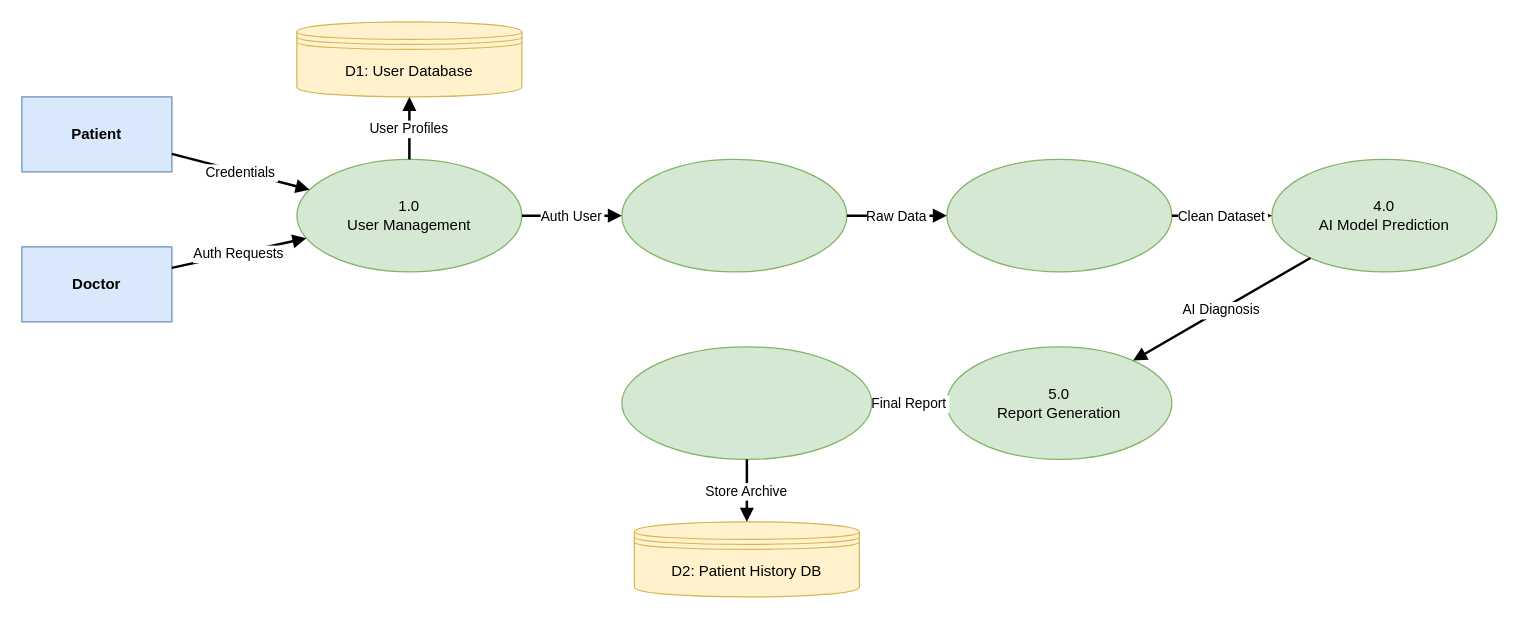
This 1519x619 diagram has some shape labels left out. Each missing label, with the box of its shape:
2.0 Patient Data Collection: (621, 158, 847, 272)
3.0 Data Pre-Processing: (946, 158, 1172, 272)
6.0 History & File Management: (621, 346, 872, 459)
